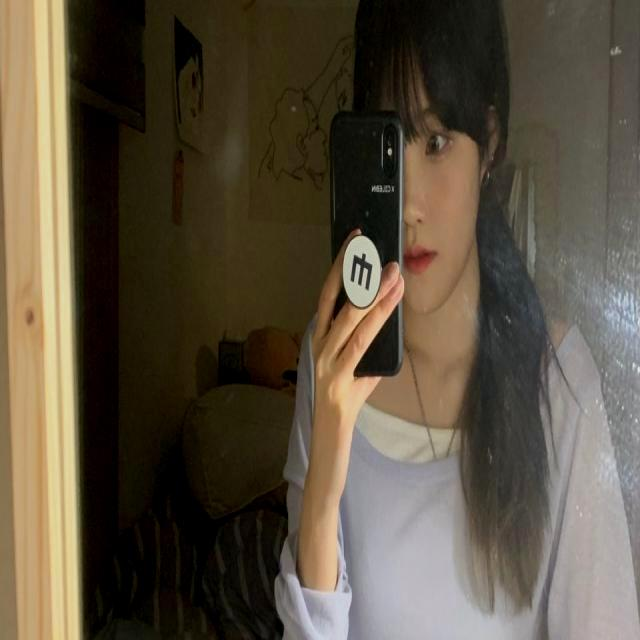lens: (381, 126, 398, 175)
phone: (332, 112, 404, 379)
